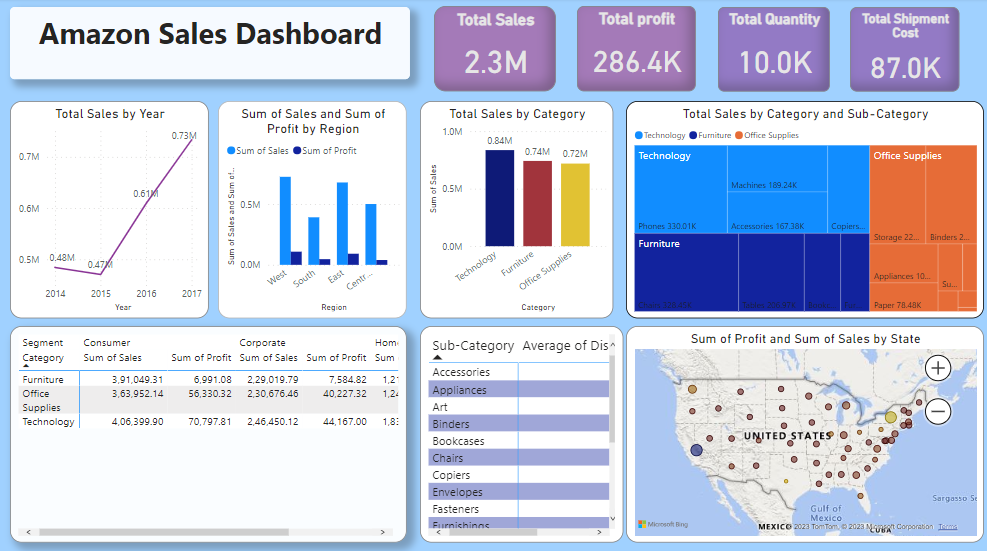

What the dashboard file says about the page in this screenshot:
{"tool":"powerbi","page":{"name":"Page 1","canvas":[1280,720],"ordinal":0},"visuals":[{"type":"textbox","box":[15.6,11.3,514.9,93.4],"z":0},{"type":"card","title":"Total Sales","fields":{"Values":["Sum(Orders.Sales)"]},"box":[561.4,10,157.1,110],"z":1000},{"type":"card","title":"Total Quantity","fields":{"Values":["CountNonNull(Orders.Quantity)"]},"box":[927.1,11.4,144.3,108.6],"z":2000},{"type":"card","title":"Total Shipment Cost","fields":{"Values":["Sum(Orders.Shipment Cost)"]},"box":[1097.1,11.4,141.4,108.6],"z":3000},{"type":"card","title":"Total profit","fields":{"Values":["Sum(Orders.Profit)"]},"box":[745.7,10,152.9,110],"z":4000},{"type":"pivotTable","fields":{"Rows":["Orders.Category"],"Columns":["Orders.Segment"],"Values":["Sum(Orders.Sales)","Sum(Orders.Profit)"]},"box":[15.6,422.9,510.6,278.7],"z":5000},{"type":"lineChart","title":"Total Sales by Year ","fields":{"Y":["Sum(Orders.Sales)"],"Category":["Orders.Order Date.Variation.Date Hierarchy.Year"]},"box":[15.6,133,256,280.1],"z":6000},{"type":"map","fields":{"Category":["Orders.State"],"Size":["Sum(Orders.Profit)"]},"box":[809.1,422.9,461.1,278.7],"z":7000},{"type":"pivotTable","fields":{"Rows":["Orders.Sub-Category"],"Values":["Avg(Orders.Discount %)"]},"box":[543.2,422.9,261.7,278.7],"z":8000},{"type":"treemap","title":"Total Sales by Category and Sub-Category","fields":{"Group":["Orders.Category"],"Details":["Orders.Sub-Category"],"Values":["Sum(Orders.Sales)"]},"box":[809.1,133,461.1,280.1],"z":9000},{"type":"columnChart","title":"Total Sales by Category","fields":{"Category":["Orders.Category"],"Y":["Sum(Orders.Sales)"]},"box":[543.2,133,249,280.1],"z":10000},{"type":"clusteredColumnChart","fields":{"Category":["Orders.Region","Orders.State","Orders.City"],"Y":["Sum(Orders.Sales)","Sum(Orders.Profit)"]},"box":[282.9,133,243.3,280.1],"z":11000}]}

Visuals, with their boxes in screenshot pixels (x1, y1, x2, y2), scaled from the page's 1280x720 canvas onto the 987x551 screenshot:
textbox: 12/9/409/80
"Total Sales" card: 433/8/554/92
"Total Quantity" card: 715/9/826/92
"Total Shipment Cost" card: 846/9/955/92
"Total profit" card: 575/8/693/92
pivotTable - Orders.Category x Orders.Segment: 12/324/406/537
"Total Sales by Year " lineChart: 12/102/209/316
map - Orders.State x Sum(Orders.Profit): 624/324/979/537
pivotTable - Orders.Sub-Category x Avg(Orders.Discount %): 419/324/621/537
"Total Sales by Category and Sub-Category" treemap: 624/102/979/316
"Total Sales by Category" columnChart: 419/102/611/316
clusteredColumnChart - Orders.Region x Orders.State: 218/102/406/316
